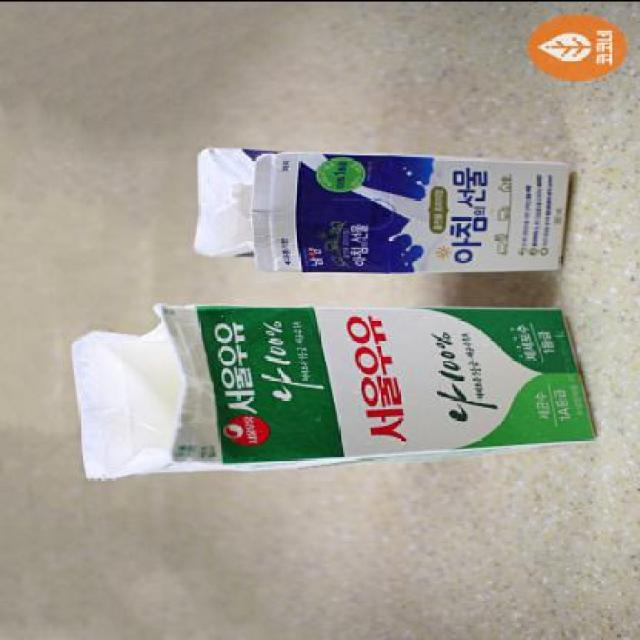non_white_jug: (61, 290, 605, 493), (173, 128, 592, 277)
